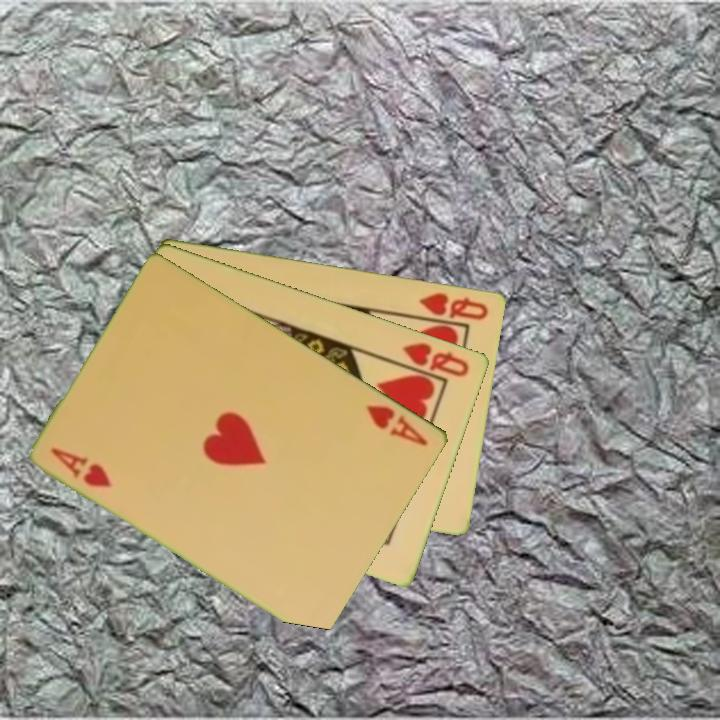Ah: (363, 401, 432, 449), (48, 443, 116, 491)
Qh: (399, 338, 473, 380), (416, 288, 492, 323)
